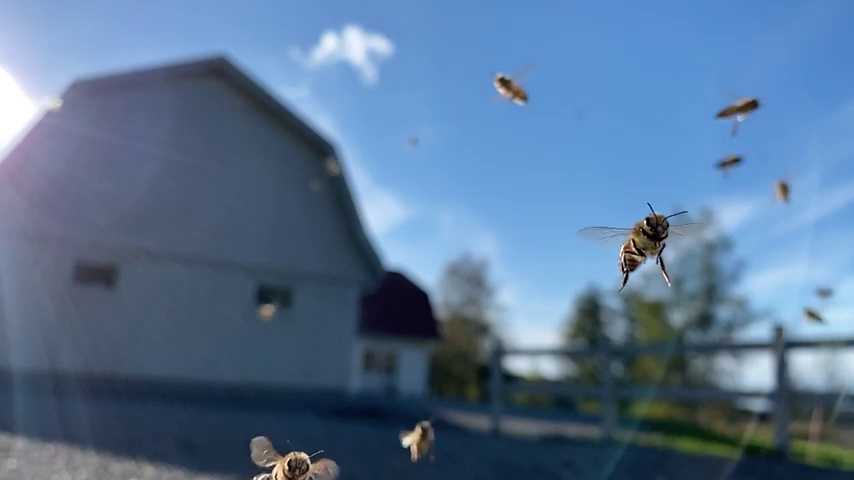insect: (578, 203, 692, 293), (245, 435, 343, 480), (397, 415, 439, 468), (712, 92, 764, 128), (492, 68, 532, 109), (711, 154, 746, 172)
